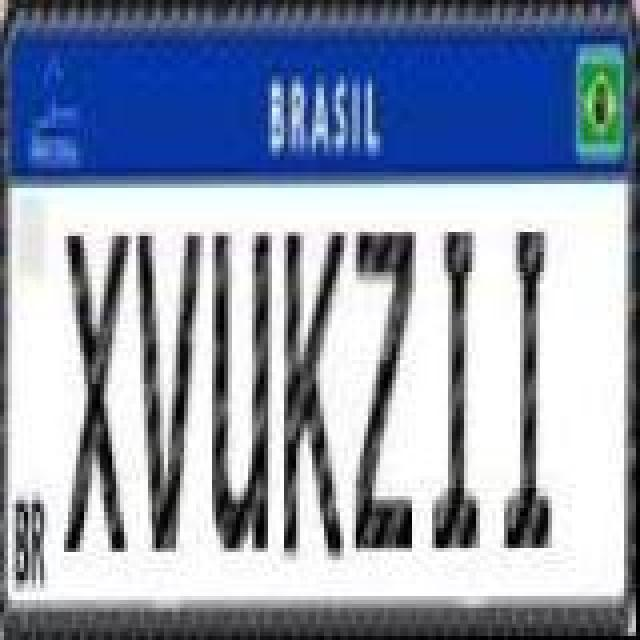I: (432, 222, 484, 558), (504, 226, 556, 550)
K: (280, 230, 348, 566)
U: (212, 228, 272, 552)
V: (136, 228, 204, 552)
X: (64, 230, 132, 554)
Z: (354, 228, 418, 552)
